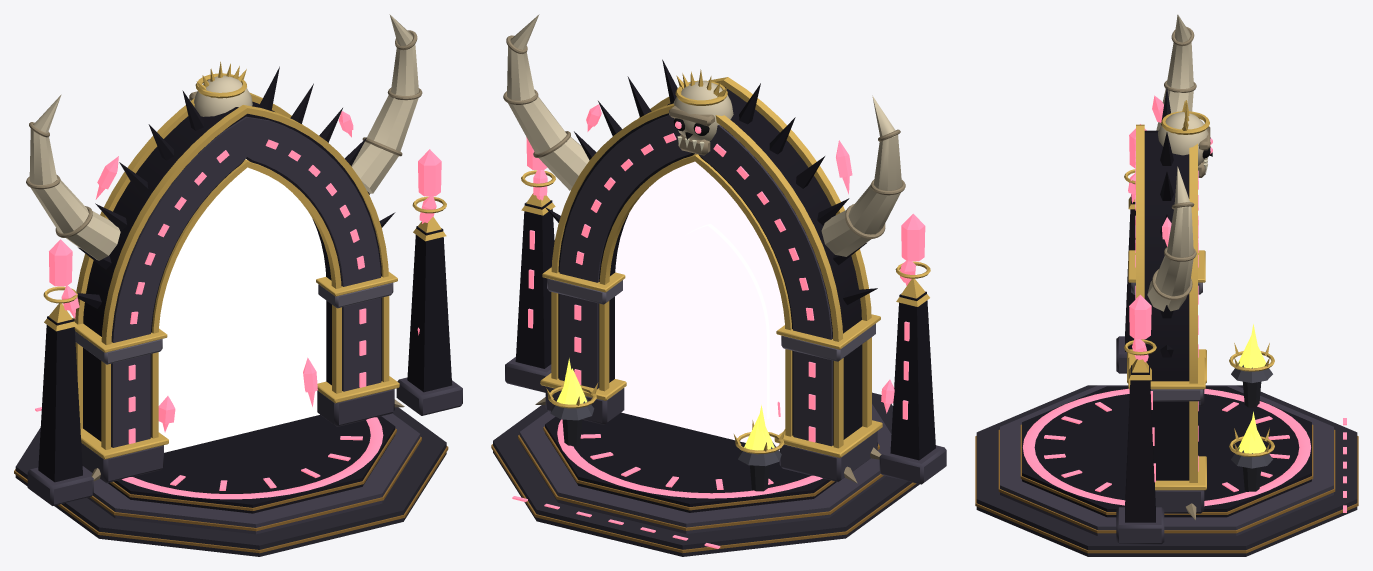
Rendered from RaidPortal.fbx.
3 renders of one model, left to right at view 1: azimuth 30°, elevation 25°; view 2: azimuth 150°, elevation 25°; view 3: azimuth 270°, elevation 25°, orthographic. The views are drawn at different scales.
Visible parts, largest first — view 1: RaidPortal_Frame, RaidPortal_Vortex, RaidPortal_Runes_Glow_Crimson, RaidPortal_Shards; view 2: RaidPortal_Frame, RaidPortal_Vortex, RaidPortal_Runes_Glow_Crimson, RaidPortal_Shards, RaidPortal_Runes_Glow_Orange; view 3: RaidPortal_Frame, RaidPortal_Runes_Glow_Crimson, RaidPortal_Runes_Glow_Orange, RaidPortal_Shards.
Boxes of the visible parts, <box> form: RaidPortal_Frame: <box>14,14,462,556</box>; RaidPortal_Vortex: <box>158,159,326,452</box>; RaidPortal_Runes_Glow_Crimson: <box>35,139,441,499</box>; RaidPortal_Shards: <box>61,111,436,432</box>; RaidPortal_Frame: <box>491,14,946,556</box>; RaidPortal_Vortex: <box>615,161,785,450</box>; RaidPortal_Runes_Glow_Crimson: <box>512,121,925,548</box>; RaidPortal_Shards: <box>533,104,915,416</box>; RaidPortal_Runes_Glow_Orange: <box>557,358,774,450</box>; RaidPortal_Frame: <box>975,14,1358,556</box>; RaidPortal_Runes_Glow_Crimson: <box>1023,124,1346,512</box>; RaidPortal_Runes_Glow_Orange: <box>1238,324,1266,453</box>; RaidPortal_Shards: <box>1128,95,1171,362</box>.
Bounding box in the file's own units: 3400 × 3210 × 2886.
Materials: 4 (1 with a texture image).
